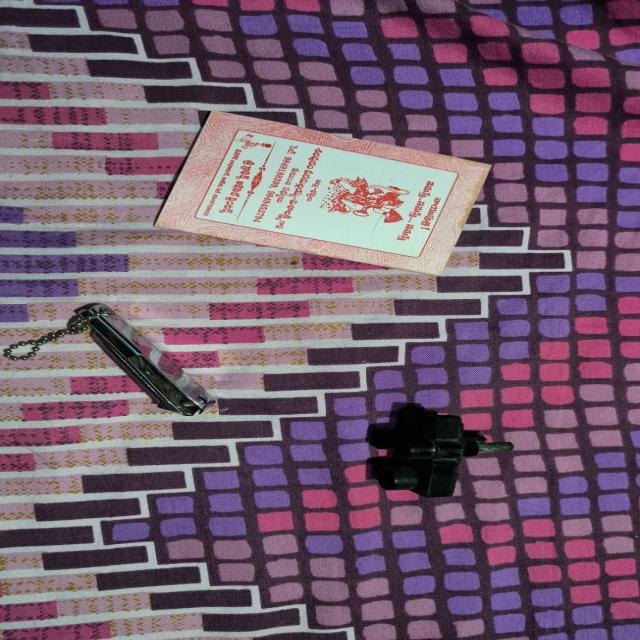metal: (10, 287, 312, 432)
paper: (182, 96, 493, 282)
plastic: (366, 412, 476, 496)
